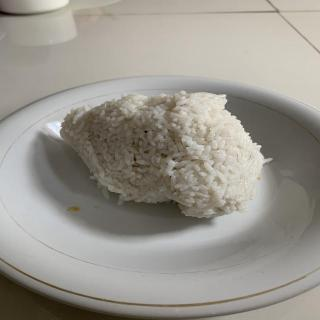Nasi: (61, 93, 269, 219)
